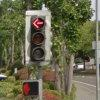Traffic light: (21, 10, 52, 73)
